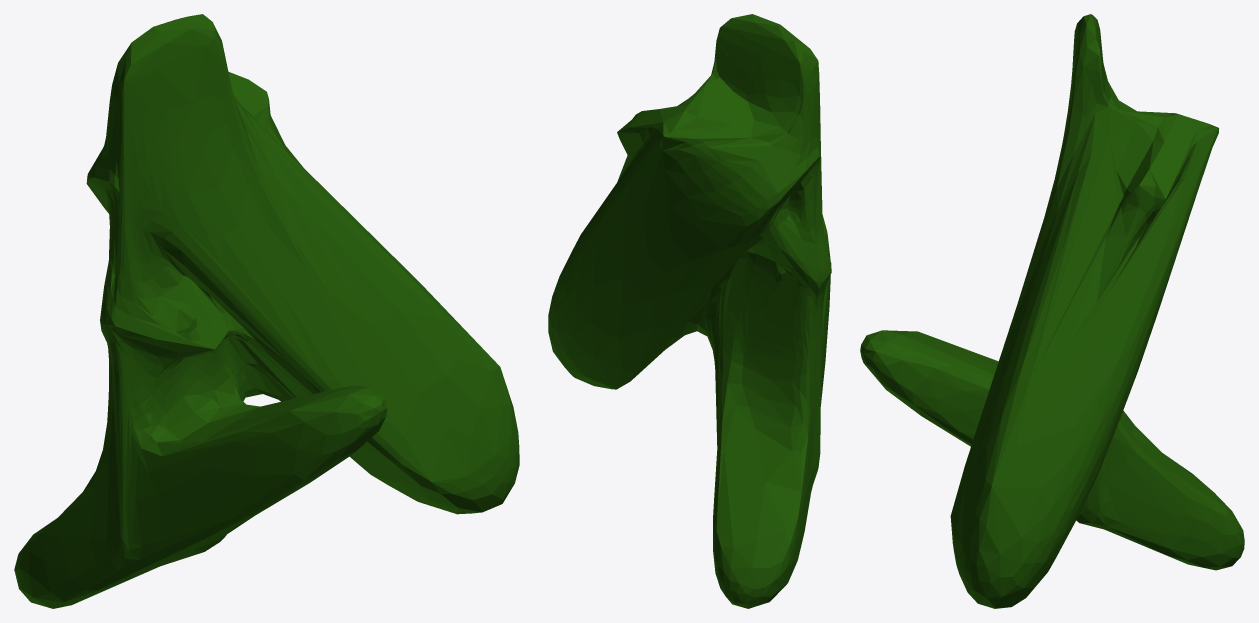
3 views of the same model, side by side, from view 1: azimuth 30°, elevation 25°; view 2: azimuth 150°, elevation 25°; view 3: azimuth 270°, elevation 25° (orthographic). The views are drawn at different scales.
Visible parts, largest first — view 1: 254_Cube.1040; view 2: 254_Cube.1040; view 3: 254_Cube.1040.
Boxes of the visible parts, box(x1,y1,x2,y2) form: 254_Cube.1040: box(14, 14, 519, 608); 254_Cube.1040: box(548, 14, 831, 608); 254_Cube.1040: box(860, 14, 1244, 608).
Bounding box in the file's own units: 9 × 13.98 × 8.54.
